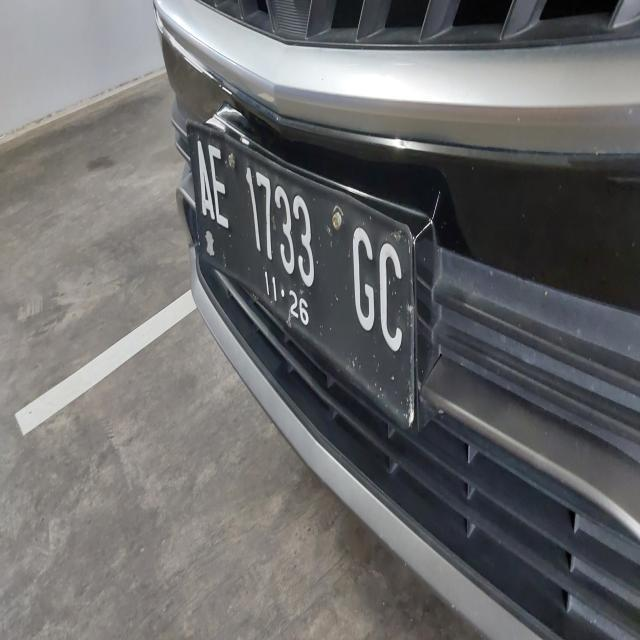1: (242, 160, 262, 255)
3: (276, 179, 296, 280), (296, 190, 315, 292)
7: (256, 164, 274, 262)
A: (194, 133, 214, 220)
C: (378, 241, 406, 357)
E: (207, 135, 235, 234)
G: (351, 222, 378, 340)
